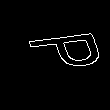P_E: (8, 32, 102, 78)
